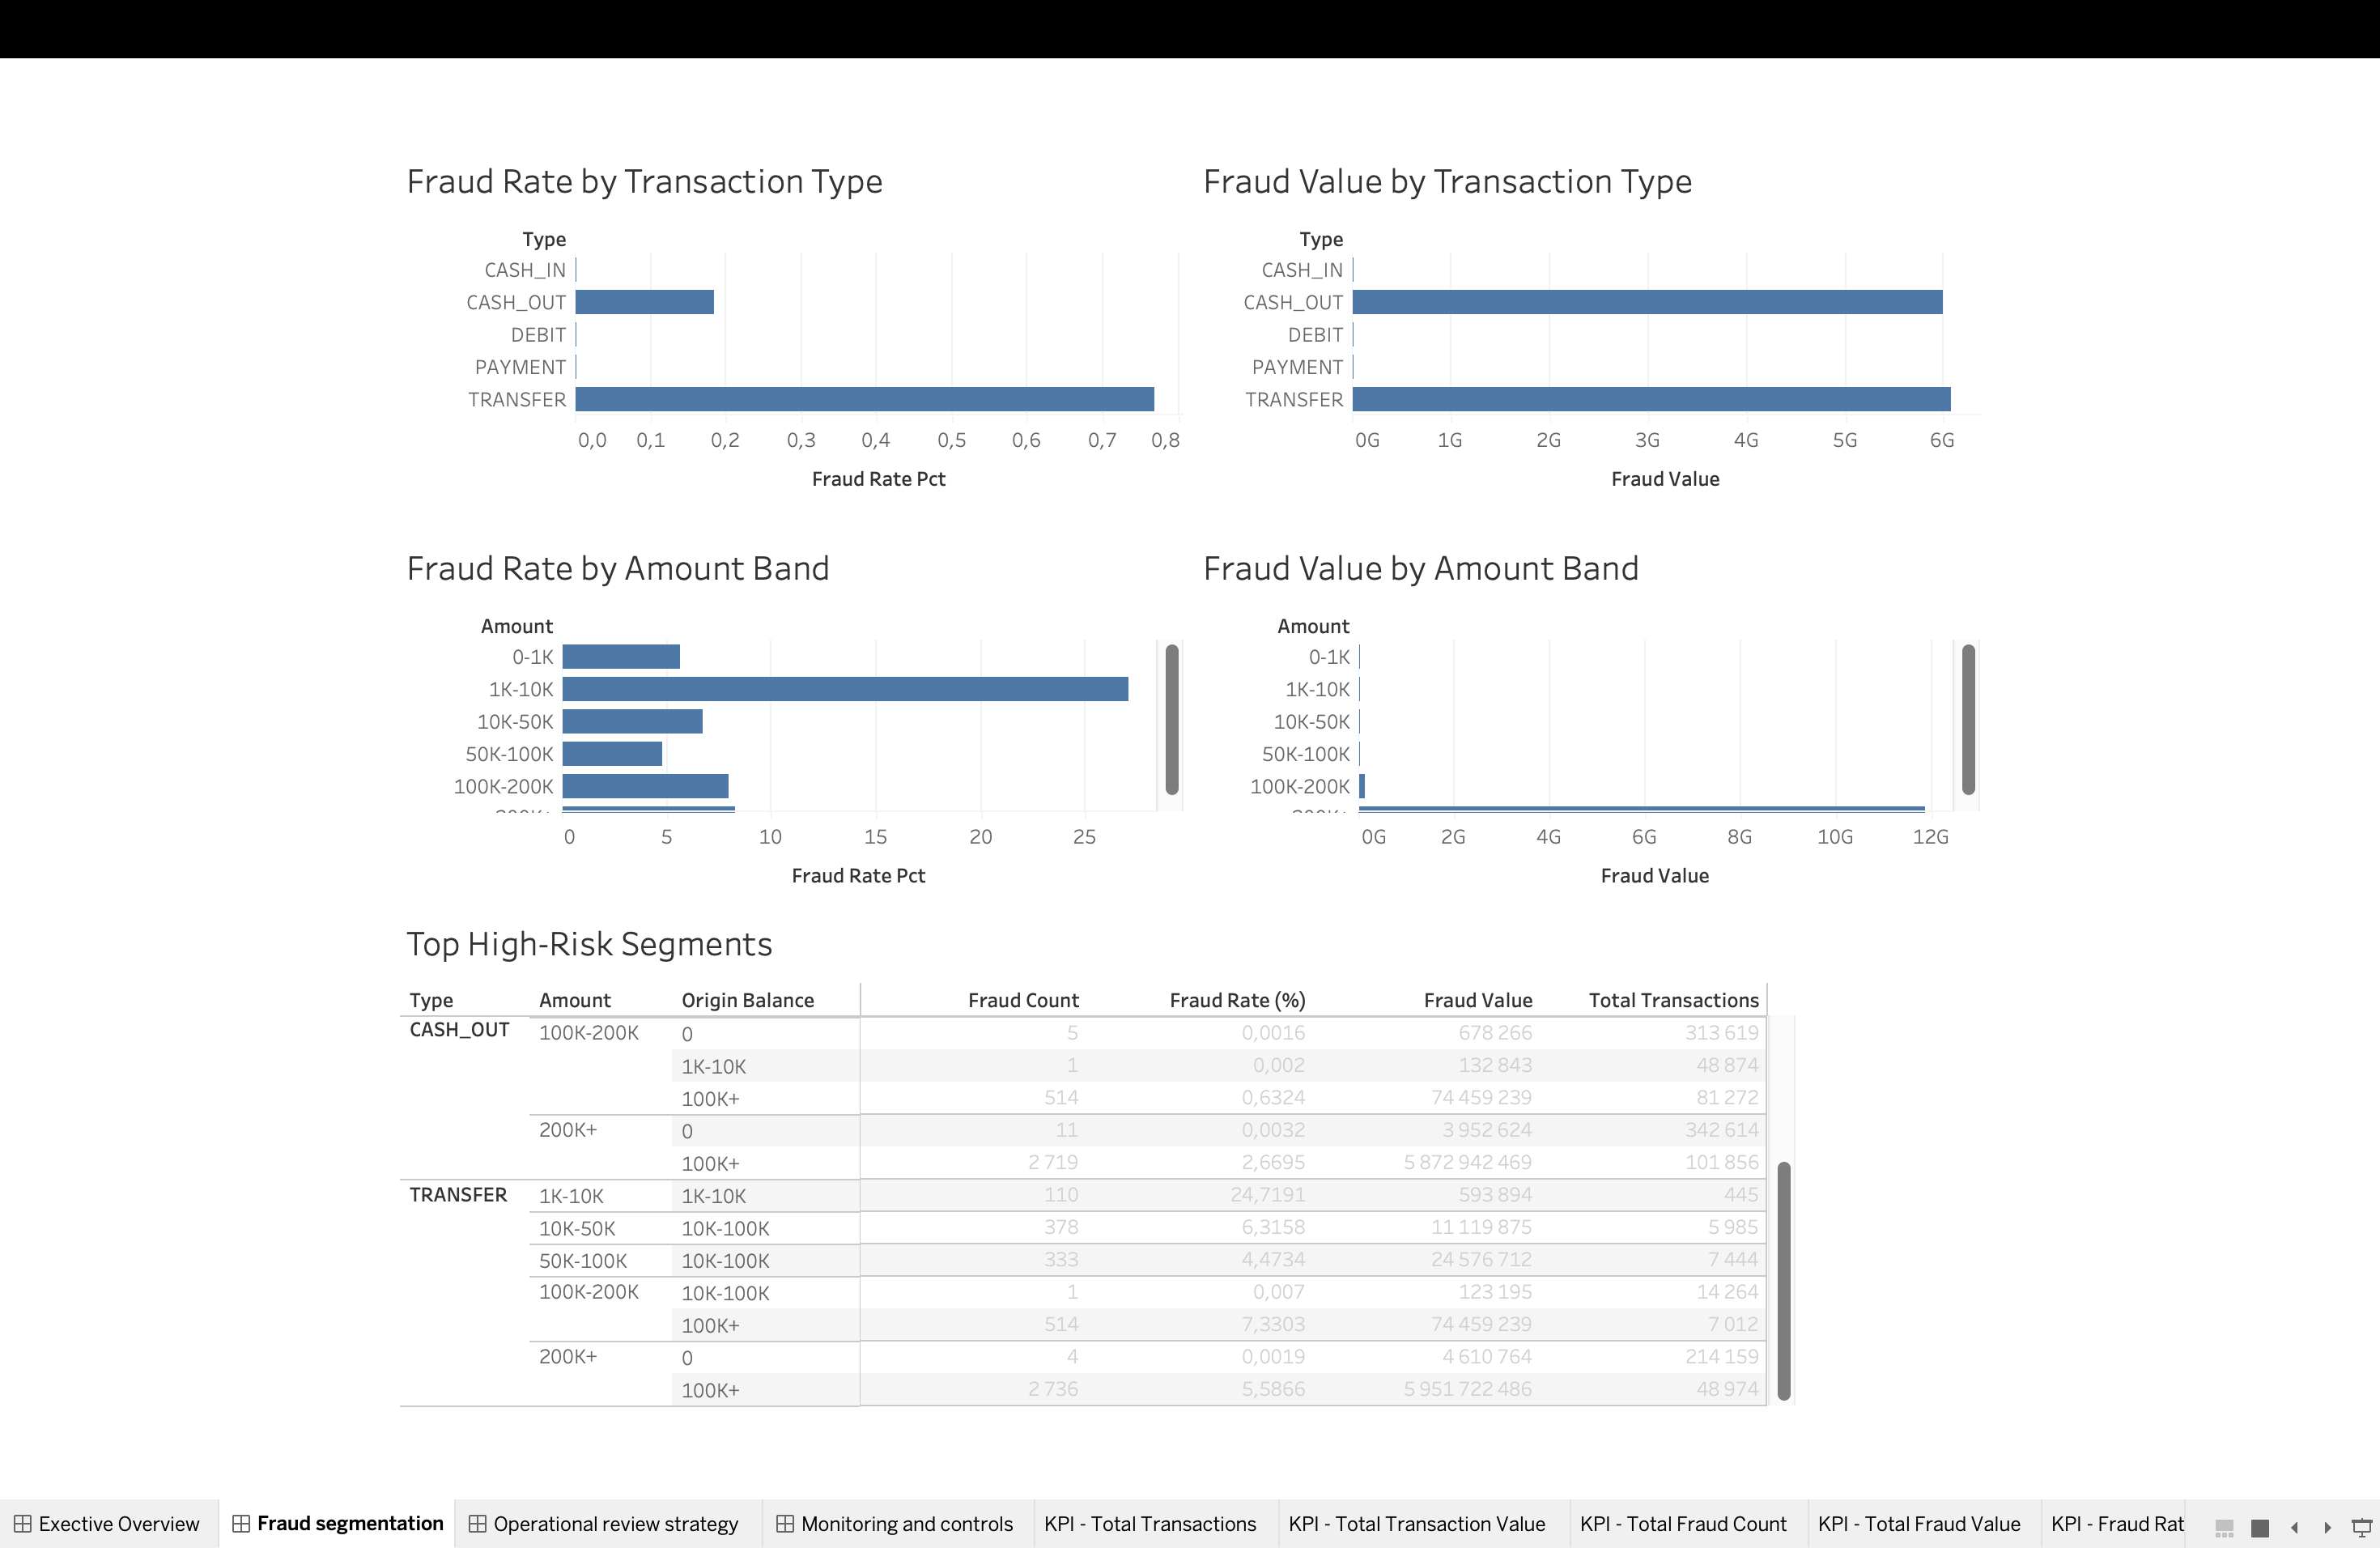

Layout of this report page (visuals, bound fields, positions):
{"tool":"tableau","page":{"name":"Fraud segmentation","canvas":[1000,800],"ordinal":1},"visuals":[{"type":"worksheet","title":"Fraud Rate by Transaction Type","mark":"Automatic","rows":["type"],"cols":["fraud_rate_pct"],"box":[8,8,492,239]},{"type":"worksheet","title":"Fraud Value by Transaction Type","mark":"Automatic","rows":["type"],"cols":["fraud_value"],"box":[500,8,492,239]},{"type":"worksheet","title":"Fraud Rate by Amount Band","mark":"Bar","rows":["amount_band"],"cols":["fraud_rate_pct"],"box":[8,247,492,232]},{"type":"worksheet","title":"Fraud Value by Amount Band","mark":"Automatic","rows":["amount_band"],"cols":["fraud_value"],"box":[500,247,492,232]},{"type":"worksheet","title":"Top High-Risk Segments","mark":"Automatic","rows":["type","amount_band","origin_balance_band"],"box":[8,479,984,313]}]}

Visuals, with their boxes on the page's 1000x800 design canvas (x1, y1, x2, y2). These are canvas units, not pixel positions in the 2380x1548 screenshot, which may show the page scaled, cropped or inside an application window:
"Fraud Rate by Transaction Type" worksheet: 8:8:500:247
"Fraud Value by Transaction Type" worksheet: 500:8:992:247
"Fraud Rate by Amount Band" worksheet (Bar marks): 8:247:500:479
"Fraud Value by Amount Band" worksheet: 500:247:992:479
"Top High-Risk Segments" worksheet: 8:479:992:792
